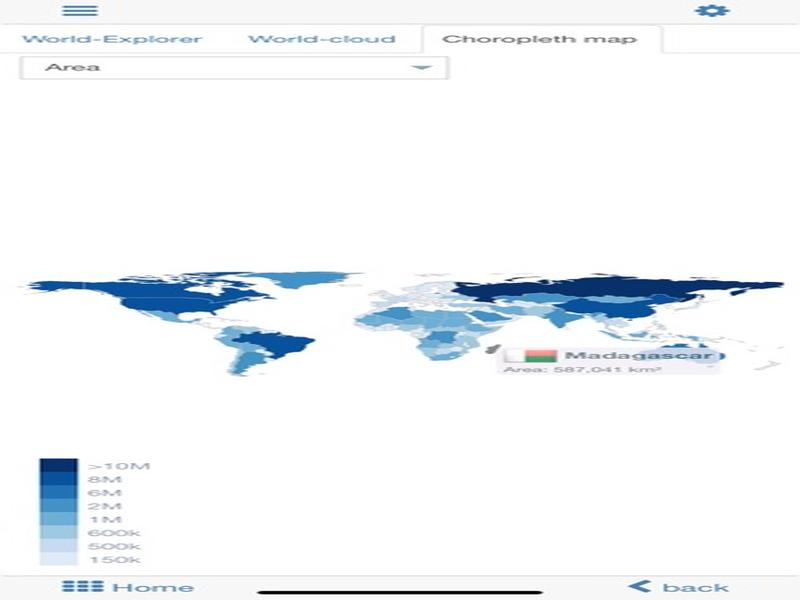legend: (36, 455, 155, 571)
